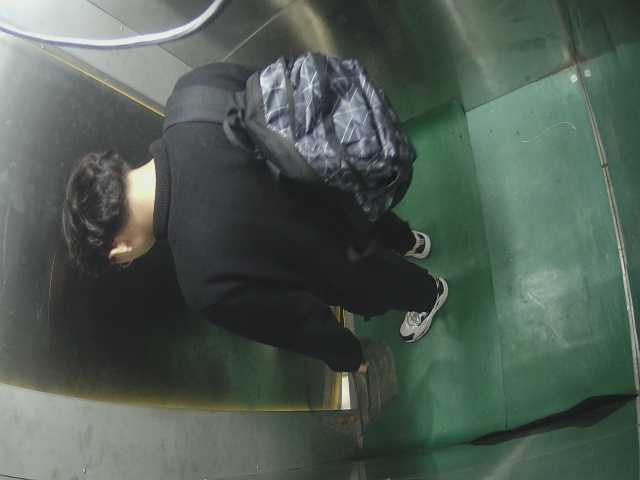bag: (241, 49, 416, 224)
person: (42, 53, 456, 360)
